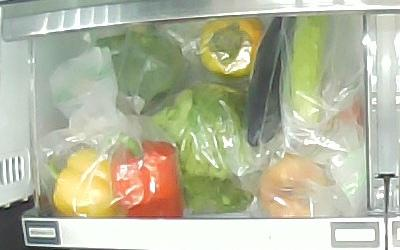broccoli_vinyl: (97, 24, 191, 117)
cucumber_vinyl: (290, 15, 323, 121)
eggplant_vinyl: (247, 16, 298, 145)
lettuce_vinyl: (149, 80, 255, 214)
paprika_vinyl: (112, 133, 184, 219), (44, 147, 116, 218)
peach_vinyl: (262, 153, 327, 219)
persimmon_vinyl: (201, 17, 267, 77)
